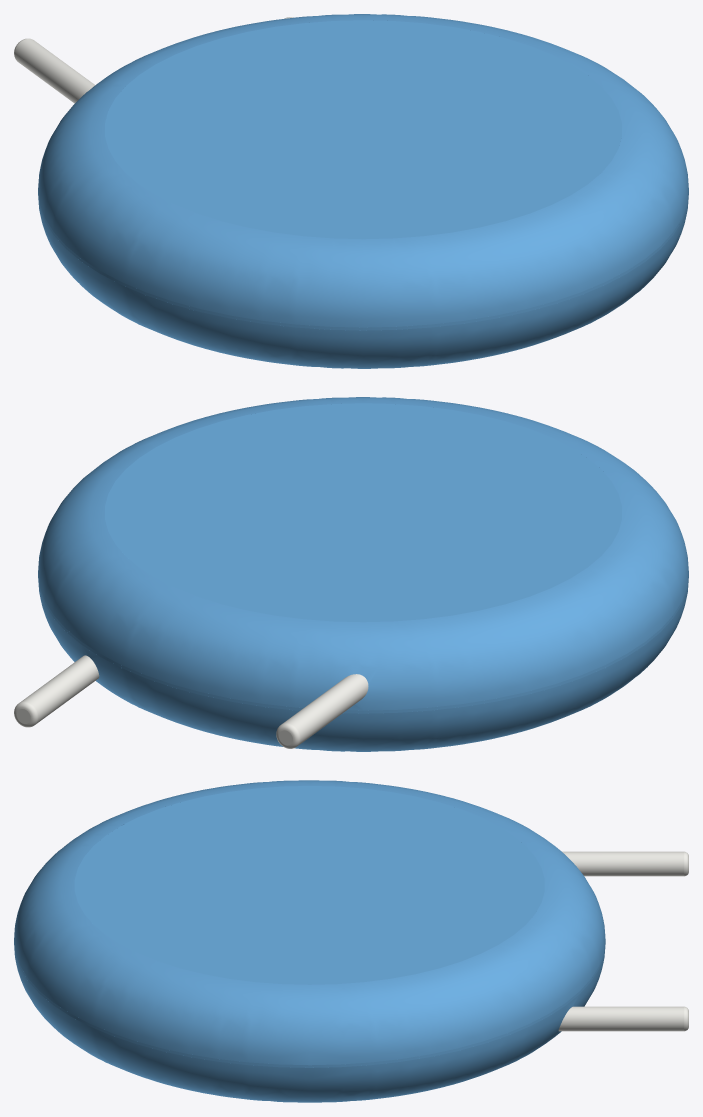
File: RV_Disc_D21.5mm_W4.5mm_P10mm.glb
3 views of the same model, one above another, from view 1: azimuth 30°, elevation 25°; view 2: azimuth 150°, elevation 25°; view 3: azimuth 270°, elevation 25° (orthographic). The views are drawn at different scales.
Visible parts, largest first — view 1: Shape_IndexedFaceSet.003, Shape_IndexedFaceSet.001, Shape_IndexedFaceSet.002, Shape_IndexedFaceSet, Shape_IndexedFaceSet.004; view 2: Shape_IndexedFaceSet.003, Shape_IndexedFaceSet.001, Shape_IndexedFaceSet.002, Shape_IndexedFaceSet.004, Shape_IndexedFaceSet, Shape_IndexedFaceSet.006; view 3: Shape_IndexedFaceSet.003, Shape_IndexedFaceSet.001, Shape_IndexedFaceSet.002, Shape_IndexedFaceSet.006, Shape_IndexedFaceSet.004, Shape_IndexedFaceSet.
Part boxes in pixels (x1,y1,x2,y2): Shape_IndexedFaceSet.003: [105, 20, 621, 239]; Shape_IndexedFaceSet.001: [38, 14, 688, 327]; Shape_IndexedFaceSet.002: [38, 194, 688, 368]; Shape_IndexedFaceSet: [38, 191, 688, 330]; Shape_IndexedFaceSet.004: [14, 39, 95, 103]; Shape_IndexedFaceSet.003: [105, 403, 621, 622]; Shape_IndexedFaceSet.001: [38, 397, 688, 710]; Shape_IndexedFaceSet.002: [38, 577, 688, 751]; Shape_IndexedFaceSet.004: [282, 674, 368, 745]; Shape_IndexedFaceSet: [38, 574, 688, 713]; Shape_IndexedFaceSet.006: [20, 655, 99, 723]; Shape_IndexedFaceSet.003: [74, 786, 544, 984]; Shape_IndexedFaceSet.001: [14, 780, 605, 1065]; Shape_IndexedFaceSet.002: [14, 944, 605, 1102]; Shape_IndexedFaceSet.006: [558, 1006, 683, 1031]; Shape_IndexedFaceSet.004: [562, 851, 683, 876]; Shape_IndexedFaceSet: [14, 941, 605, 1067].
Size of the model in its own units: 8.47 by 1.77 by 9.66.
